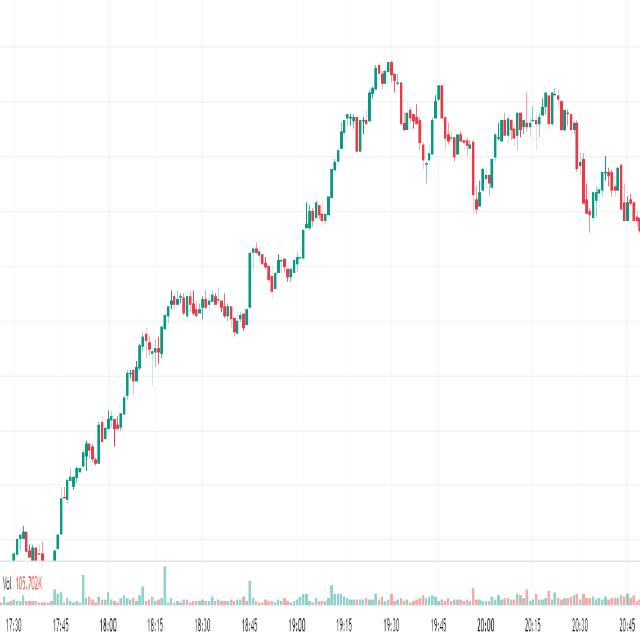Double-Top: (366, 41, 406, 159)
